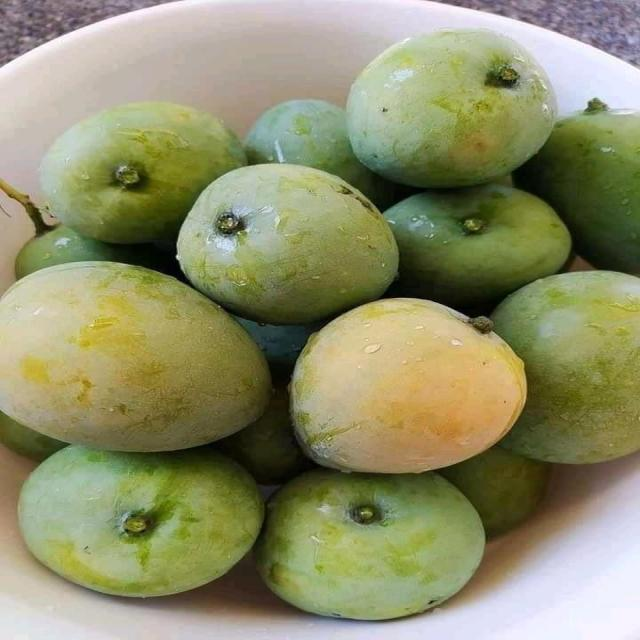mango: (0, 262, 270, 451), (292, 298, 526, 473), (19, 446, 263, 597), (253, 467, 484, 620), (178, 164, 397, 324), (348, 29, 556, 188), (41, 101, 246, 244), (492, 271, 639, 464), (383, 183, 570, 315), (514, 98, 639, 275), (244, 99, 394, 211), (438, 445, 551, 537), (15, 223, 180, 279), (0, 411, 67, 461)
